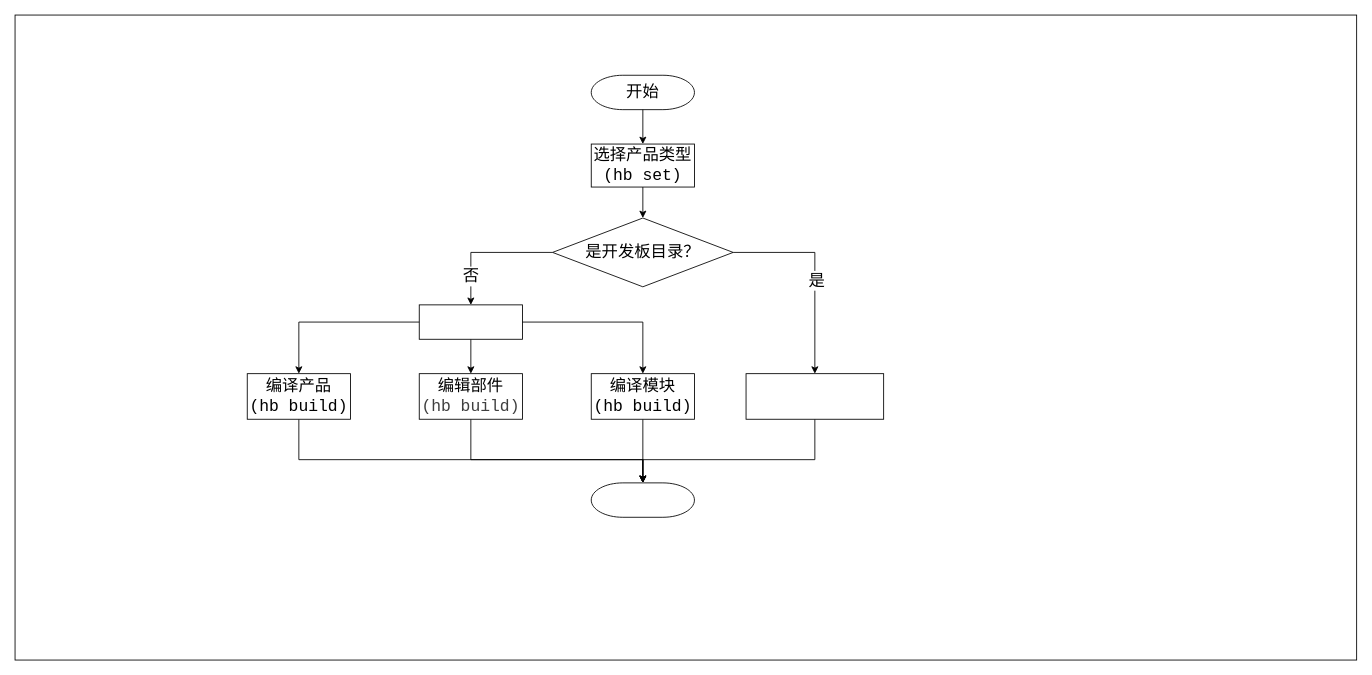
The diagram is 1372 pixels wide and 675 high, and some of its shapes have lost their labels. The centre of each missing label's shape, as x and y in pixels:
结束: the point at 642,499
编译芯片解决方案 (hb build): the point at 814,396
选择产品类型: the point at 470,321
